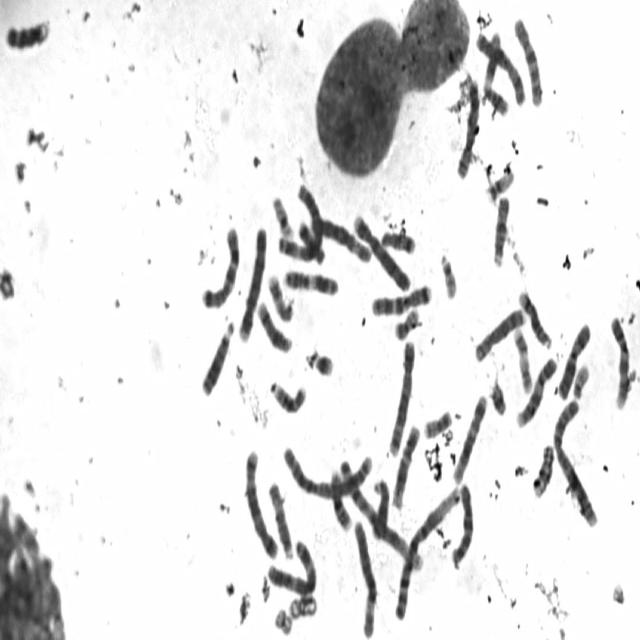A1: (334, 454, 426, 572), (391, 480, 463, 622)
A2: (550, 393, 600, 530), (280, 439, 374, 501)
A3: (274, 176, 324, 264), (264, 534, 318, 597)
B4: (350, 207, 412, 294), (236, 220, 268, 343)
B5: (242, 443, 279, 561), (386, 334, 416, 458)
C10: (511, 12, 544, 108), (449, 476, 476, 570)
C11: (478, 27, 510, 118), (281, 264, 340, 297)
C12: (451, 387, 489, 485), (390, 418, 422, 511)
C6: (301, 212, 372, 266), (350, 513, 378, 639)
C7: (198, 220, 241, 312), (368, 278, 434, 318)
C8: (472, 304, 528, 364), (454, 72, 482, 182)
C9: (514, 351, 559, 429), (607, 310, 632, 412)
D13: (198, 314, 236, 399), (370, 473, 391, 541)
D14: (515, 285, 553, 351), (254, 296, 294, 355)
D15: (265, 477, 295, 561), (490, 191, 511, 269)
E16: (326, 462, 353, 533), (267, 376, 308, 416)
E17: (510, 323, 534, 395), (265, 270, 295, 324)
E18: (294, 214, 326, 266), (378, 225, 417, 255)
F19: (269, 190, 296, 240), (484, 163, 516, 204)
F20: (392, 302, 422, 341), (421, 404, 454, 439)
G21: (303, 343, 336, 379), (488, 376, 507, 418)
G22: (437, 246, 459, 301), (570, 358, 591, 400)
X: (473, 26, 527, 107), (555, 318, 592, 401)
